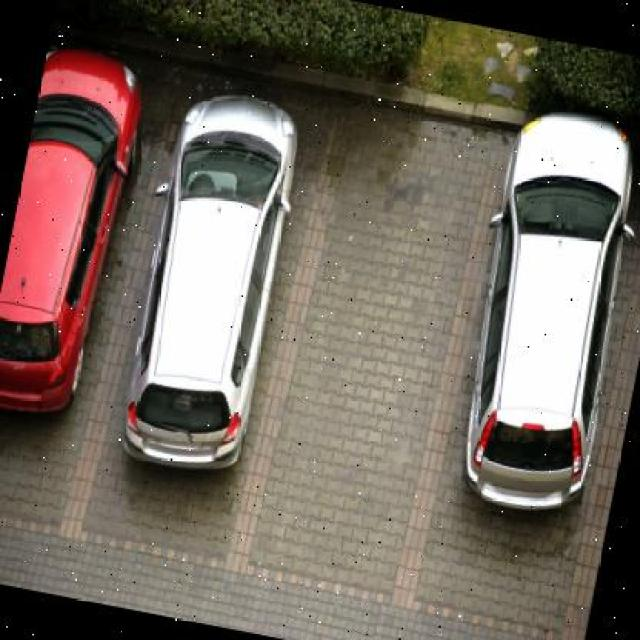Car: (438, 93, 640, 546), (107, 87, 315, 526), (1, 40, 149, 437)
Empty: (261, 104, 493, 592)
